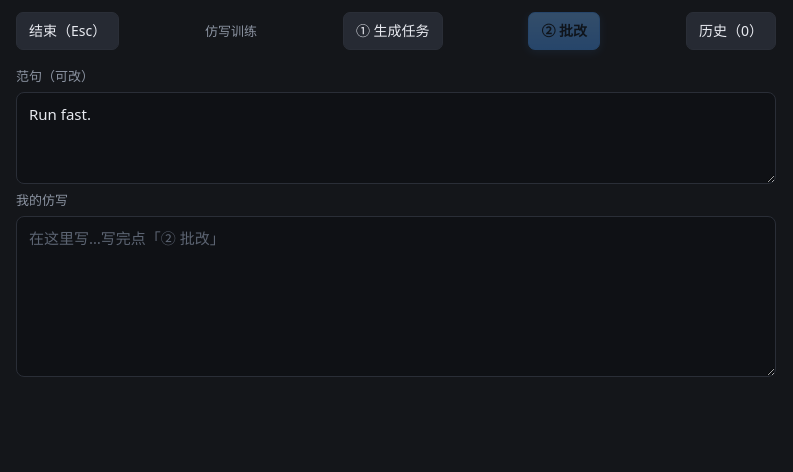
Test case: WritingPanel：历史 › 没历史时打开显示占位；不能清空
Click the button "历史（0）": (731, 31) [686,12,776,50]
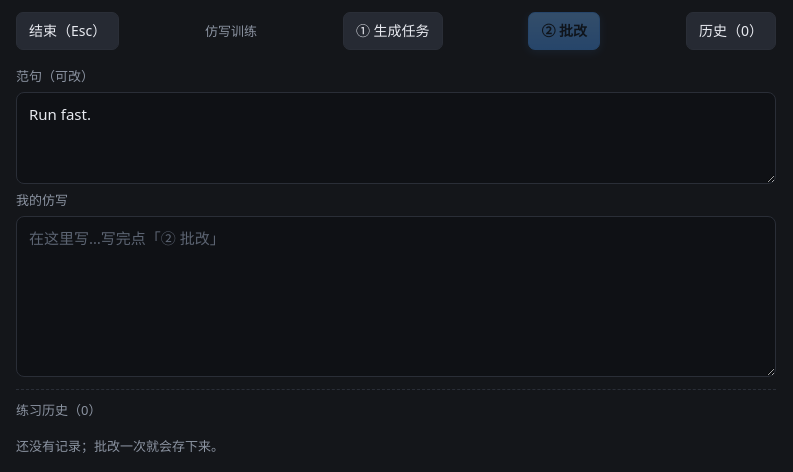
Expected: the text "还没有记录；批改一次就会存下来。" is shown, [16,437,224,455]
